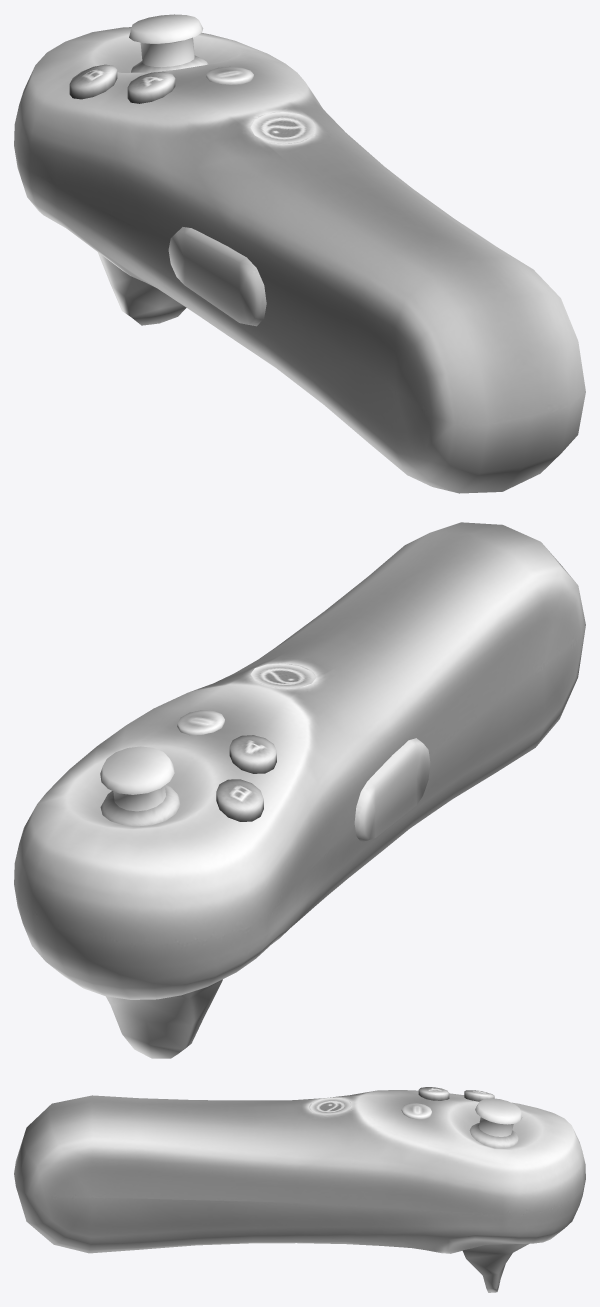
File: right.glb
3 renders of one model, top to bottom at view 1: azimuth 30°, elevation 25°; view 2: azimuth 150°, elevation 25°; view 3: azimuth 270°, elevation 25°, orthographic. The views are drawn at different scales.
Parts seen in each view (by area): view 1: controller, squeeze, thumbstick, trigger, system_button, b_button, a_button, menu_button; view 2: controller, thumbstick, trigger, squeeze, b_button, a_button, system_button, menu_button; view 3: controller, thumbstick, trigger, system_button, menu_button, a_button.
Part boxes in pixels (bbox=[...]): controller: bbox=[14, 27, 585, 493]; squeeze: bbox=[168, 227, 266, 326]; thumbstick: bbox=[129, 14, 208, 72]; trigger: bbox=[98, 252, 186, 325]; system_button: bbox=[250, 112, 315, 143]; b_button: bbox=[69, 64, 117, 99]; a_button: bbox=[127, 71, 175, 103]; menu_button: bbox=[206, 66, 253, 84]; controller: bbox=[14, 522, 585, 999]; thumbstick: bbox=[100, 746, 180, 826]; trigger: bbox=[106, 979, 222, 1058]; squeeze: bbox=[354, 738, 430, 841]; b_button: bbox=[216, 779, 263, 821]; a_button: bbox=[229, 735, 276, 773]; system_button: bbox=[250, 663, 315, 688]; menu_button: bbox=[177, 710, 224, 735]; controller: bbox=[14, 1090, 585, 1253]; thumbstick: bbox=[469, 1098, 522, 1148]; trigger: bbox=[462, 1243, 529, 1292]; system_button: bbox=[309, 1097, 351, 1114]; menu_button: bbox=[401, 1103, 431, 1119]; a_button: bbox=[418, 1087, 449, 1100].
Size of the model in its own units: 0.0467 by 0.0551 by 0.1512.
Materials: 1 (1 with a texture image).
